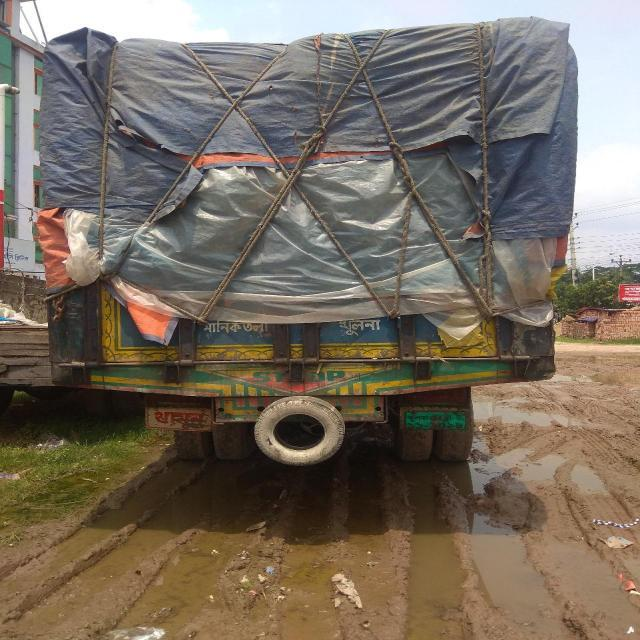numberplate: (402, 407, 468, 431)
